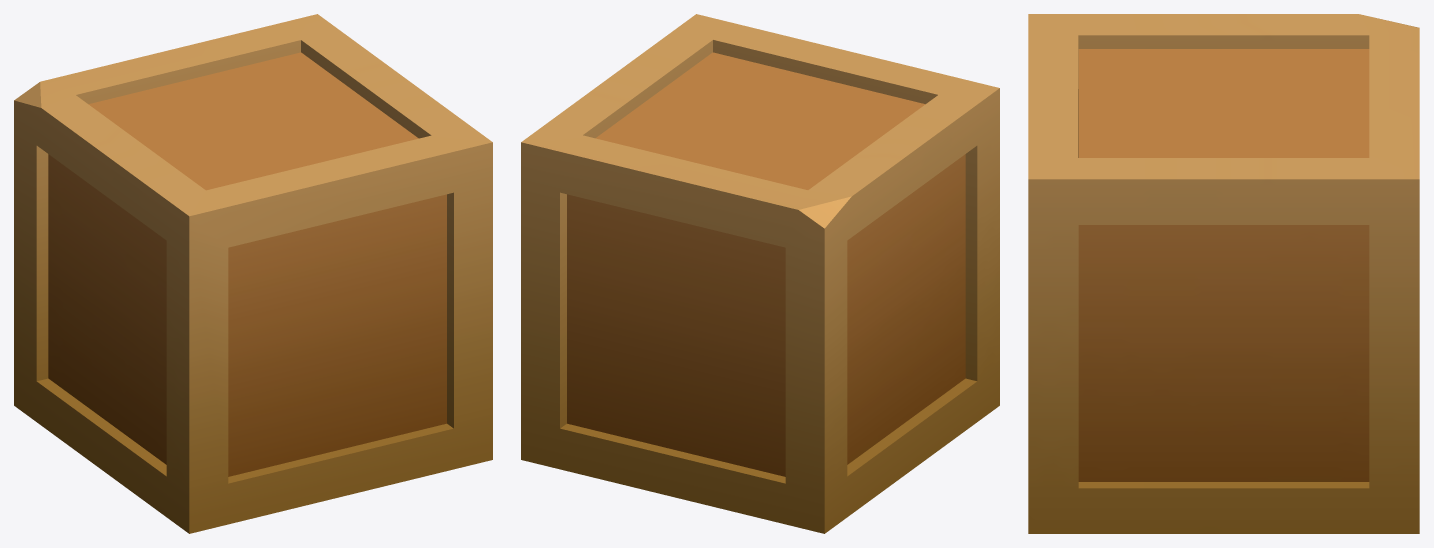
Rendered from Crate_Small_B.fbx.
3 views of the same model, side by side, from view 1: azimuth 30°, elevation 25°; view 2: azimuth 150°, elevation 25°; view 3: azimuth 270°, elevation 25° (orthographic). The views are drawn at different scales.
Visible parts, largest first — view 1: Crate_Small_B; view 2: Crate_Small_B; view 3: Crate_Small_B.
Part boxes in pixels (<box>): Crate_Small_B: <box>14,14,492,533</box>; Crate_Small_B: <box>521,14,999,533</box>; Crate_Small_B: <box>1028,14,1419,533</box>.
Size of the model in its own units: 50.09 by 50.09 by 50.09.
Materials: 1 (1 with a texture image).
